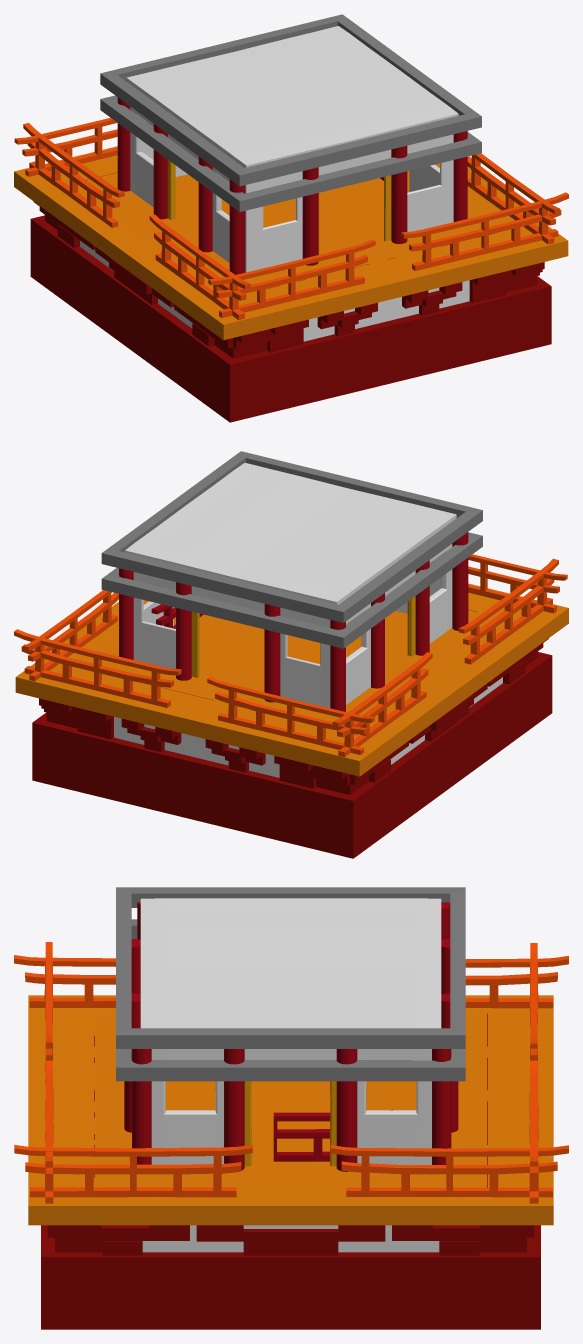
The picture shows the model from 3 angles, top to bottom: view 1: azimuth 30°, elevation 25°; view 2: azimuth 150°, elevation 25°; view 3: azimuth 270°, elevation 25°; orthographic projection. The views are drawn at different scales.
Visible parts, largest first — view 1: Cube.002; view 2: Cube.002; view 3: Cube.002.
Part boxes in pixels (bbox=[...]): Cube.002: bbox=[14, 14, 568, 422]; Cube.002: bbox=[14, 451, 568, 858]; Cube.002: bbox=[14, 887, 568, 1329].
Size of the model in its own units: 388 by 223 by 415.
